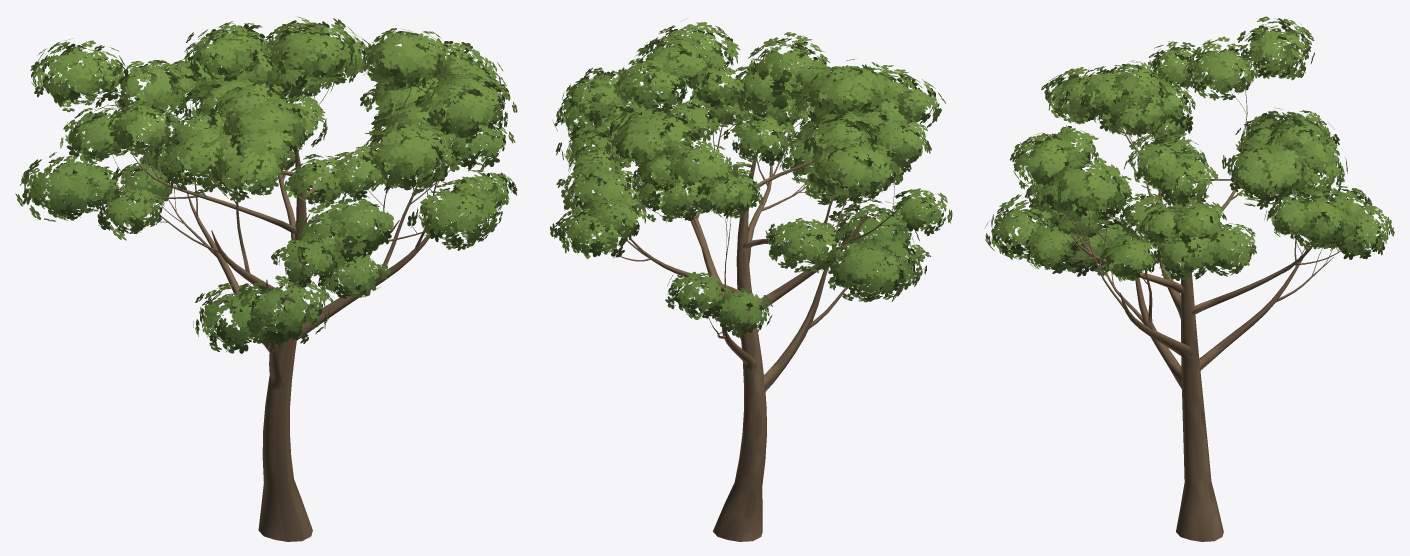
The model's file is tree.gltf.
3 views of the same model, side by side, from view 1: azimuth 30°, elevation 25°; view 2: azimuth 150°, elevation 25°; view 3: azimuth 270°, elevation 25° (orthographic). The views are drawn at different scales.
Parts seen in each view (by area): view 1: Tree_LOD0; view 2: Tree_LOD0; view 3: Tree_LOD0.
Part boxes in pixels (<box>): Tree_LOD0: <box>15,16,517,541</box>; Tree_LOD0: <box>550,18,952,541</box>; Tree_LOD0: <box>984,16,1394,541</box>.
Size of the model in its own units: 19.57 by 21.29 by 18.21.
2 materials, 2 textured.
